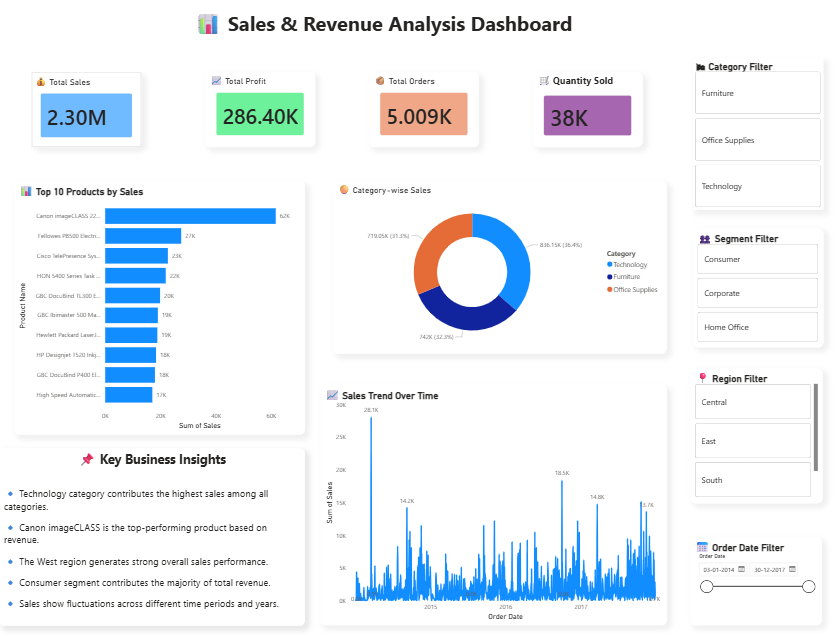

Layout of this report page (visuals, bound fields, positions):
{"tool":"powerbi","page":{"name":"Page 1","canvas":[1700,1300],"ordinal":0},"visuals":[{"type":"cardVisual","title":"💰 Total Sales  ","fields":{"Data":["Sum(Orders.Sales)"]},"box":[65,150,220,150],"z":0},{"type":"cardVisual","title":"📈 Total Profit","fields":{"Data":["Sum(Orders.Profit)"]},"box":[411.7,150,220,150],"z":1000},{"type":"cardVisual","title":"📦 Total Orders","fields":{"Data":["Count(Orders.Order ID)"]},"box":[740,150,220,150],"z":2000},{"type":"cardVisual","title":"🛒 Quantity Sold","fields":{"Data":["Sum(Orders.Quantity)"]},"box":[1066.7,150,220,150],"z":3000},{"type":"lineChart","title":"📈 Sales Trend Over Time","fields":{"Category":["Orders.Order Date"],"Y":["Sum(Orders.Sales)"]},"box":[643.3,775,693.3,481.7],"z":4000},{"type":"donutChart","title":"🥧 Category-wise Sales","fields":{"Category":["Orders.Category"],"Y":["Sum(Orders.Sales)"]},"box":[668.3,368.3,668.3,346.7],"z":5000},{"type":"clusteredBarChart","title":"📊 Top 10 Products by Sales","fields":{"Category":["Orders.Product Name"],"Y":["Sum(Orders.Sales)"]},"box":[30,368.3,581.7,508.3],"z":6000},{"type":"advancedSlicerVisual","title":"🛍 Category Filter","fields":{"Values":["Orders.Category"]},"box":[1386.7,121.7,261.7,303.3],"z":7000},{"type":"advancedSlicerVisual","title":"👥 Segment Filter","fields":{"Values":["Orders.Segment"]},"box":[1386.7,461.7,261.7,238.3],"z":8000},{"type":"advancedSlicerVisual","title":"📍 Region Filter","fields":{"Values":["Orders.Region"]},"box":[1381.7,741.7,265,270],"z":9000},{"type":"slicer","title":"📅 Order Date Filter","fields":{"Values":["Orders.Order Date"]},"box":[1383.3,1080,263.3,176.7],"z":10000},{"type":"textbox","title":"📊 Sales & Revenue Analysis Dashboard","box":[386,26,768,58],"z":11000},{"type":"textbox","box":[81.7,0,220,150],"z":12000},{"type":"textbox","title":"📌 Key Business Insights","box":[0,901.7,611.7,355],"z":14000}]}

Visuals, with their boxes in screenshot pixels (x1, y1, x2, y2), scaled from the page's 1700x1300 canvas onto the 840x638 screenshot:
"💰 Total Sales  " cardVisual: [left=32, top=74, right=141, bottom=147]
"📈 Total Profit" cardVisual: [left=203, top=74, right=312, bottom=147]
"📦 Total Orders" cardVisual: [left=366, top=74, right=474, bottom=147]
"🛒 Quantity Sold" cardVisual: [left=527, top=74, right=636, bottom=147]
"📈 Sales Trend Over Time" lineChart: [left=318, top=380, right=660, bottom=617]
"🥧 Category-wise Sales" donutChart: [left=330, top=181, right=660, bottom=351]
"📊 Top 10 Products by Sales" clusteredBarChart: [left=15, top=181, right=302, bottom=430]
"🛍 Category Filter" advancedSlicerVisual: [left=685, top=60, right=815, bottom=209]
"👥 Segment Filter" advancedSlicerVisual: [left=685, top=227, right=815, bottom=344]
"📍 Region Filter" advancedSlicerVisual: [left=683, top=364, right=814, bottom=497]
"📅 Order Date Filter" slicer: [left=684, top=530, right=814, bottom=617]
"📊 Sales & Revenue Analysis Dashboard" textbox: [left=191, top=13, right=570, bottom=41]
textbox: [left=40, top=0, right=149, bottom=74]
"📌 Key Business Insights" textbox: [left=0, top=443, right=302, bottom=617]
